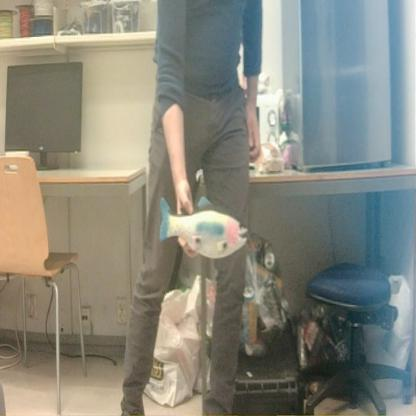rubberfish: (156, 189, 250, 263)
